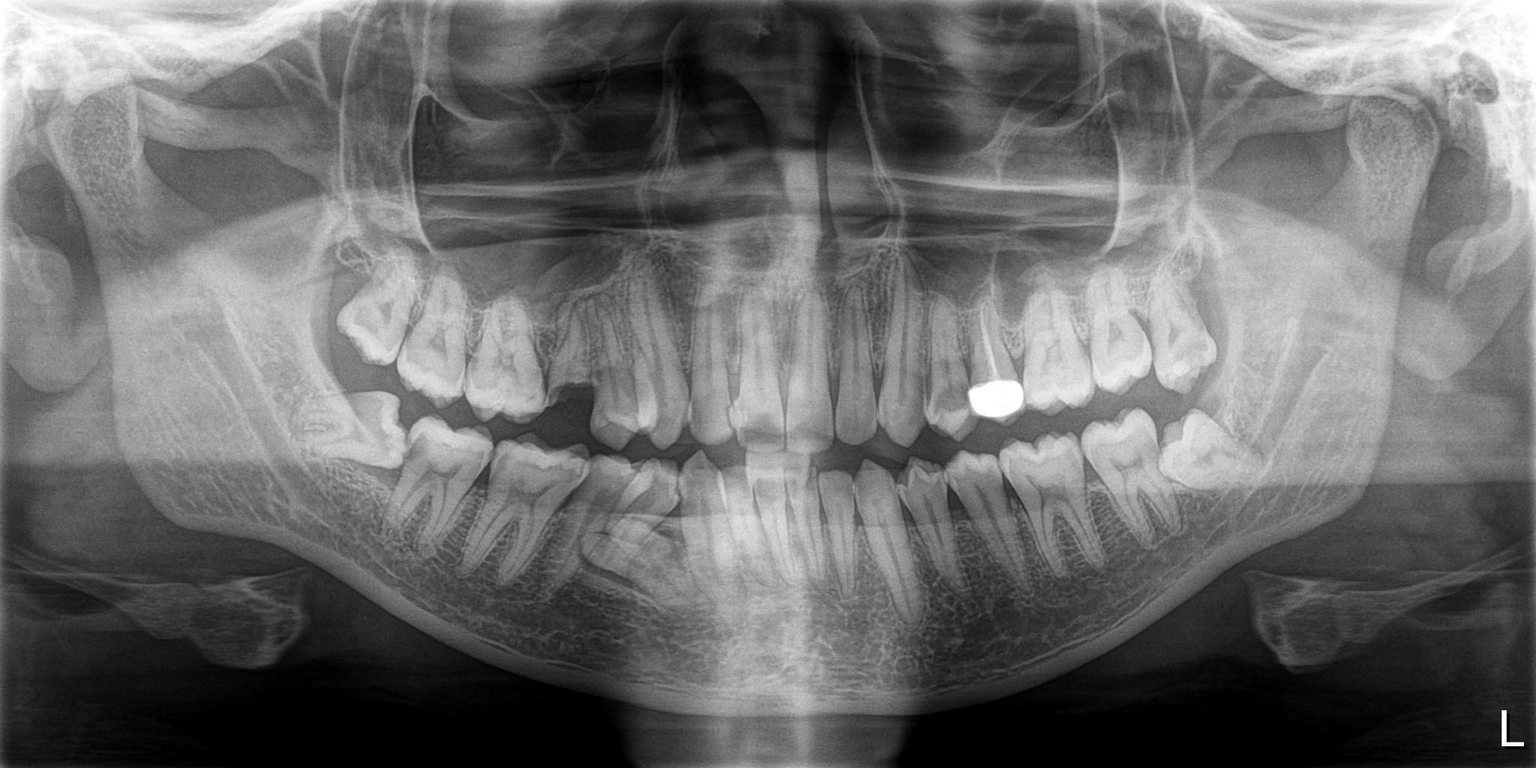Endodontically Treated Tooth: (966, 298, 1025, 418)
Impacted Third Molar: (283, 386, 404, 471), (1162, 405, 1267, 490)
